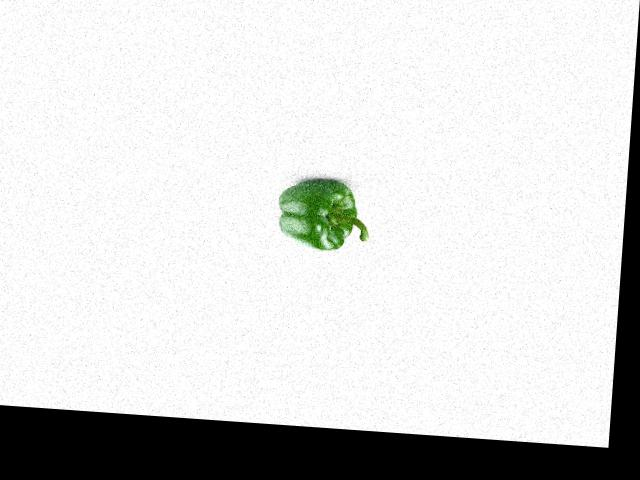bell_pepper: (272, 177, 374, 254)
